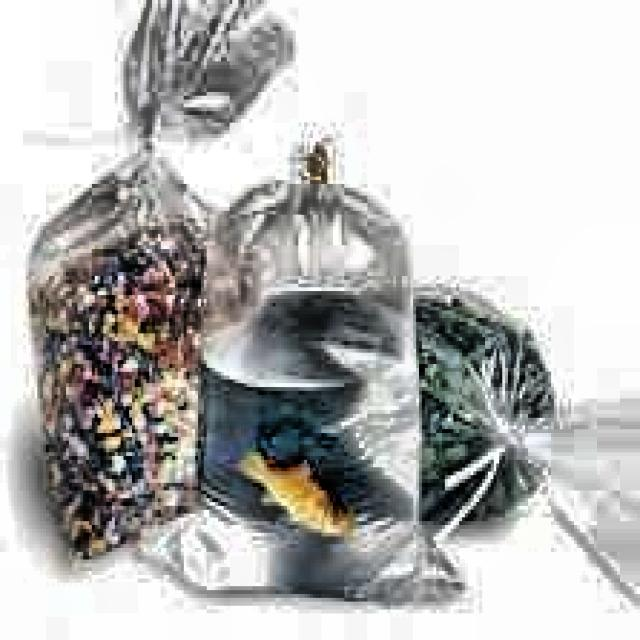Plastic: (168, 132, 487, 630)
